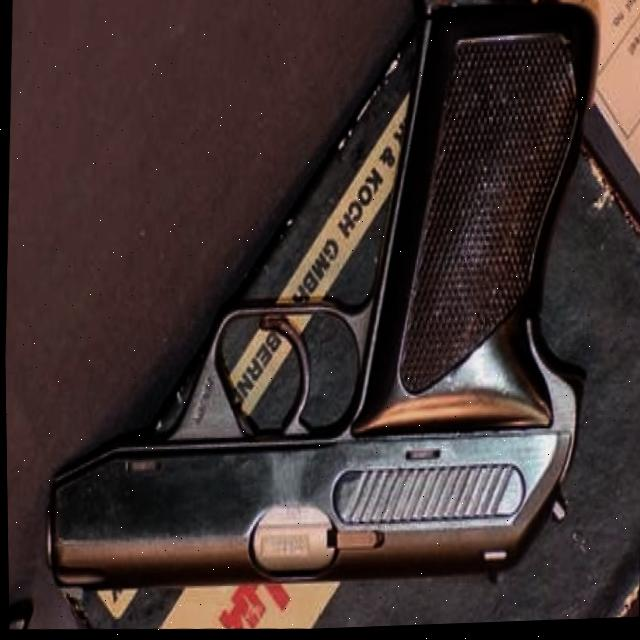pistol: (32, 0, 599, 613)
